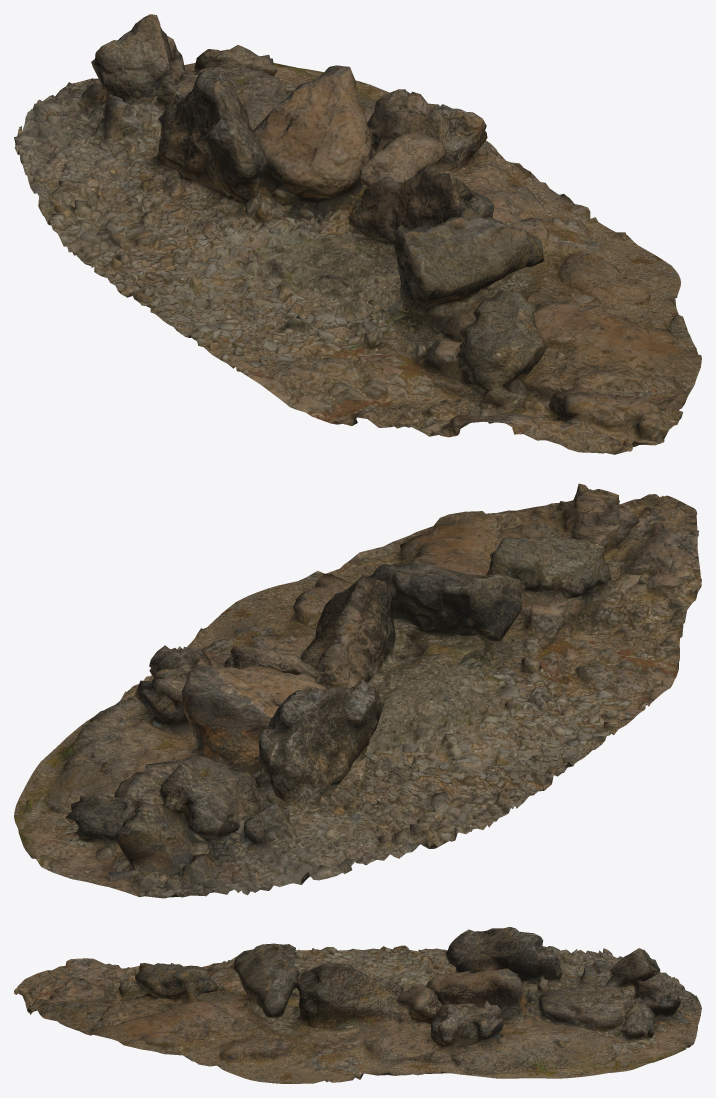
The model's file is prop_rock_f.glb.
The picture shows the model from 3 angles, top to bottom: view 1: azimuth 30°, elevation 25°; view 2: azimuth 150°, elevation 25°; view 3: azimuth 270°, elevation 25°; orthographic projection. The views are drawn at different scales.
Parts seen in each view (by area): view 1: coast_land_rocks_02; view 2: coast_land_rocks_02; view 3: coast_land_rocks_02.
Part boxes in pixels (x1,y1,x2,y2): coast_land_rocks_02: (14,14,701,454); coast_land_rocks_02: (14,483,701,898); coast_land_rocks_02: (14,927,701,1083).
Size of the model in its own units: 4.89 by 1.4 by 10.45.
Materials: 1 (1 with a texture image).
